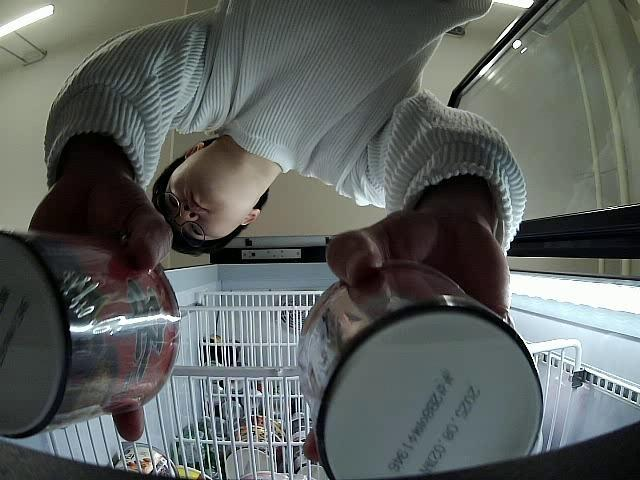02_shinRamen_S: (288, 262, 544, 480), (0, 230, 180, 444)
